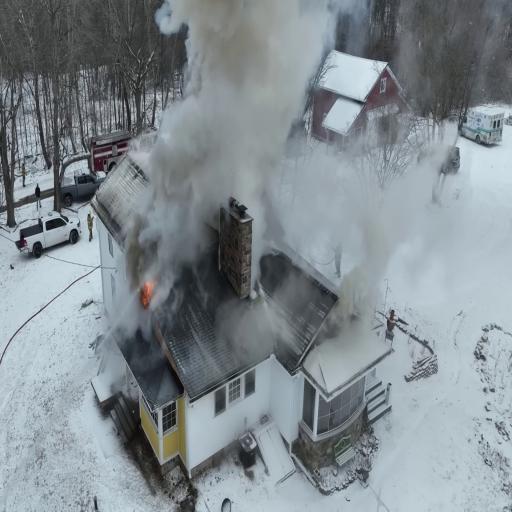smoke: (185, 0, 275, 205)
